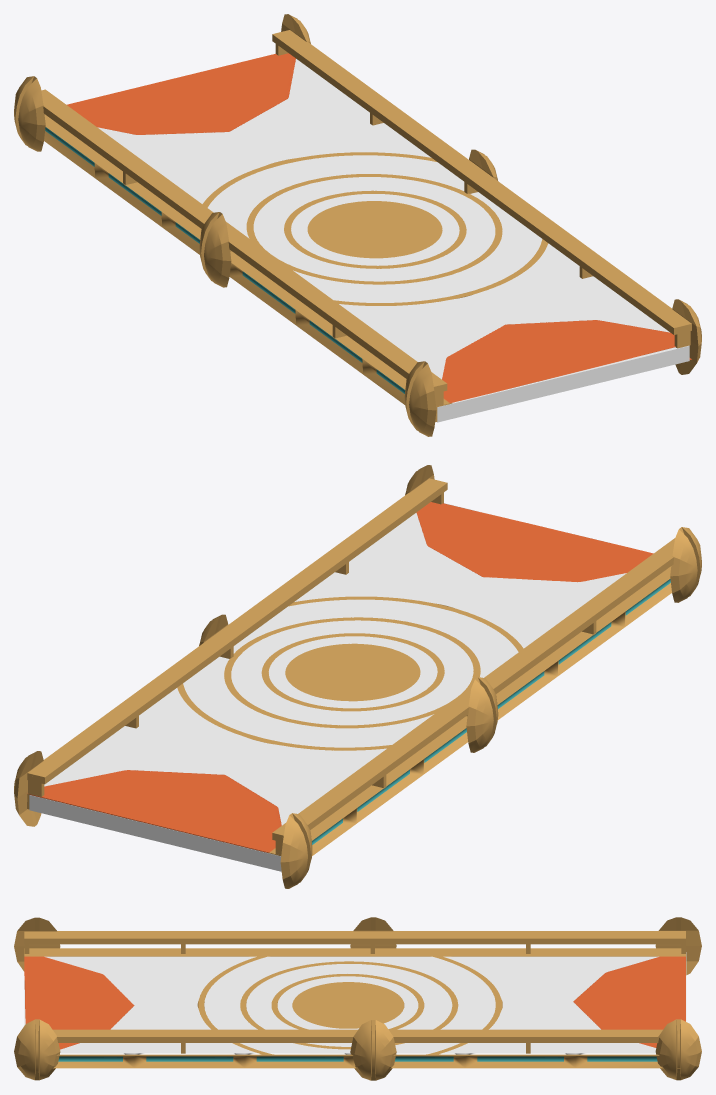
File: bridgetest1.fbx
3 renders of one model, top to bottom at view 1: azimuth 30°, elevation 25°; view 2: azimuth 150°, elevation 25°; view 3: azimuth 270°, elevation 25°, orthographic. The views are drawn at different scales.
Parts seen in each view (by area): view 1: bridgeexport:bridgeinterior, bridgeexport:bridge, bridgeexport:railing1, bridgeexport:railing, bridgeexport:railing_side_object1, bridgeexport:railing_side_object3, bridgeexport:railing_side_object5, bridgeexport:railing_side_object; view 2: bridgeexport:bridgeinterior, bridgeexport:bridge, bridgeexport:railing1, bridgeexport:railing, bridgeexport:railing_side_object3, bridgeexport:railing_side_object5, bridgeexport:railing_side_object1, bridgeexport:railing_side_object2; view 3: bridgeexport:bridgeinterior, bridgeexport:bridge, bridgeexport:railing, bridgeexport:railing1, bridgeexport:railing_side_object, bridgeexport:railing_side_object2, bridgeexport:railing_side_object4, bridgeexport:railing_side_object3, bridgeexport:railing_side_object1, bridgeexport:railing_side_object5.
Part boxes in pixels (x1=…): bridgeexport:bridgeinterior: x1=97, y1=59, x2=689, y2=422; bridgeexport:bridge: x1=44, y1=53, x2=691, y2=422; bridgeexport:railing1: x1=272, y1=30, x2=691, y2=334; bridgeexport:railing: x1=41, y1=89, x2=447, y2=393; bridgeexport:railing_side_object1: x1=404, y1=361, x2=436, y2=436; bridgeexport:railing_side_object3: x1=14, y1=76, x2=45, y2=151; bridgeexport:railing_side_object5: x1=199, y1=212, x2=231, y2=287; bridgeexport:railing_side_object: x1=672, y1=299, x2=701, y2=374; bridgeexport:bridgeinterior: x1=29, y1=503, x2=626, y2=871; bridgeexport:bridge: x1=27, y1=502, x2=671, y2=855; bridgeexport:railing1: x1=27, y1=478, x2=447, y2=784; bridgeexport:railing: x1=272, y1=538, x2=674, y2=840; bridgeexport:railing_side_object3: x1=280, y1=813, x2=312, y2=888; bridgeexport:railing_side_object5: x1=466, y1=677, x2=498, y2=752; bridgeexport:railing_side_object1: x1=670, y1=527, x2=701, y2=602; bridgeexport:railing_side_object2: x1=14, y1=751, x2=43, y2=826; bridgeexport:bridgeinterior: x1=24, y1=952, x2=686, y2=1054; bridgeexport:bridge: x1=24, y1=948, x2=685, y2=1068; bridgeexport:railing: x1=24, y1=931, x2=685, y2=944; bridgeexport:railing1: x1=53, y1=1029, x2=662, y2=1042; bridgeexport:railing_side_object: x1=14, y1=1019, x2=60, y2=1080; bridgeexport:railing_side_object2: x1=655, y1=1019, x2=701, y2=1080; bridgeexport:railing_side_object4: x1=350, y1=1020, x2=396, y2=1080; bridgeexport:railing_side_object3: x1=655, y1=917, x2=701, y2=975; bridgeexport:railing_side_object1: x1=14, y1=917, x2=60, y2=971; bridgeexport:railing_side_object5: x1=350, y1=917, x2=396, y2=948.
Size of the model in its own units: 7.18 by 1.73 by 17.71.
4 materials, 2 textured.
